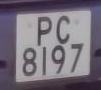1: (39, 45, 51, 79)
7: (69, 41, 84, 74)
8: (20, 45, 40, 80)
9: (50, 42, 68, 77)
C: (52, 12, 73, 45)
P: (34, 13, 56, 48)
